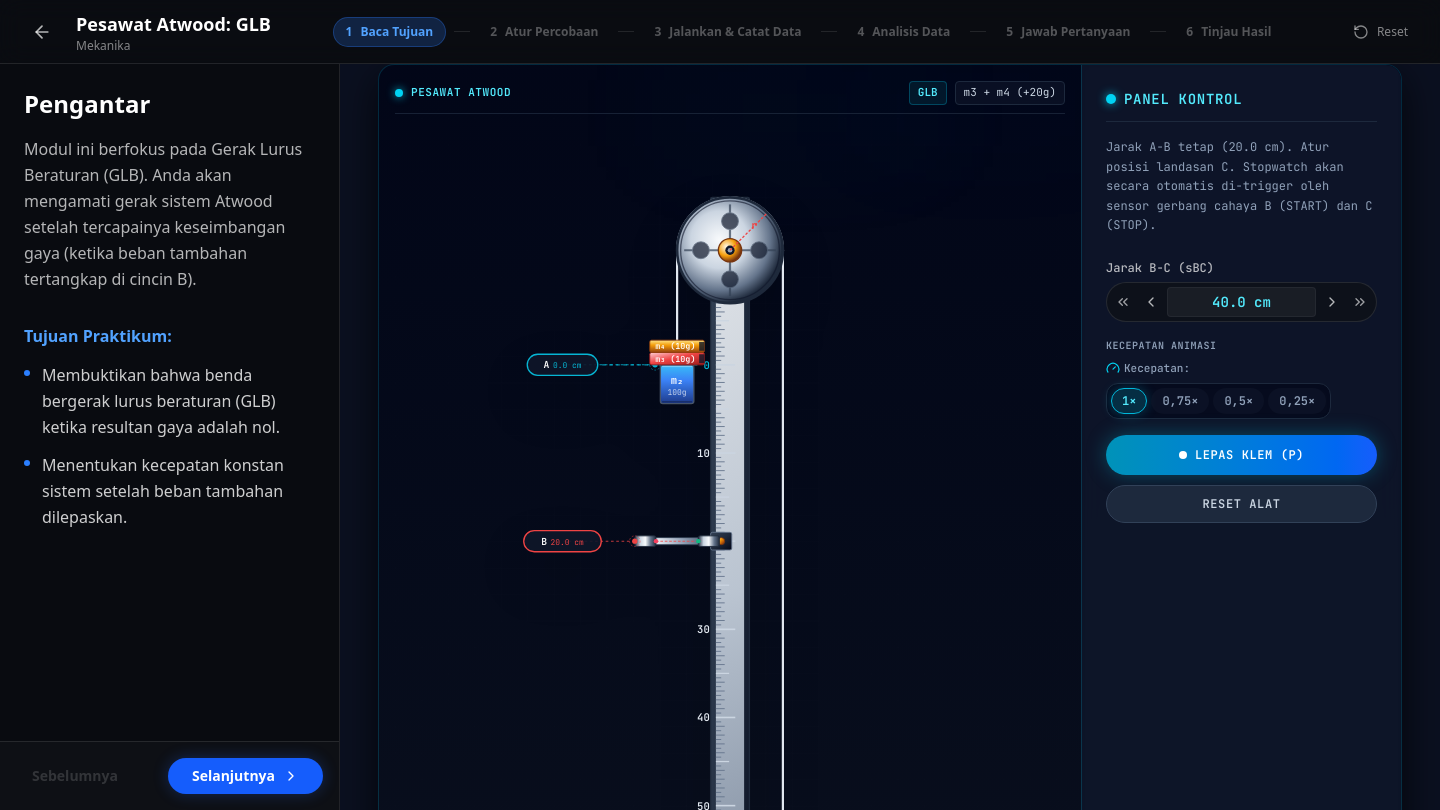
Test: E. BUG GATING & B. ALASAN TERKUNCI - Regression Tests › Atwood GLB: in SIMULATION step with 0 rows, shows blocked reason
The width and height of the screenshot is (1440, 810).
Click the button with test id "practicum-next-step": (245, 776) [168,758,323,794]
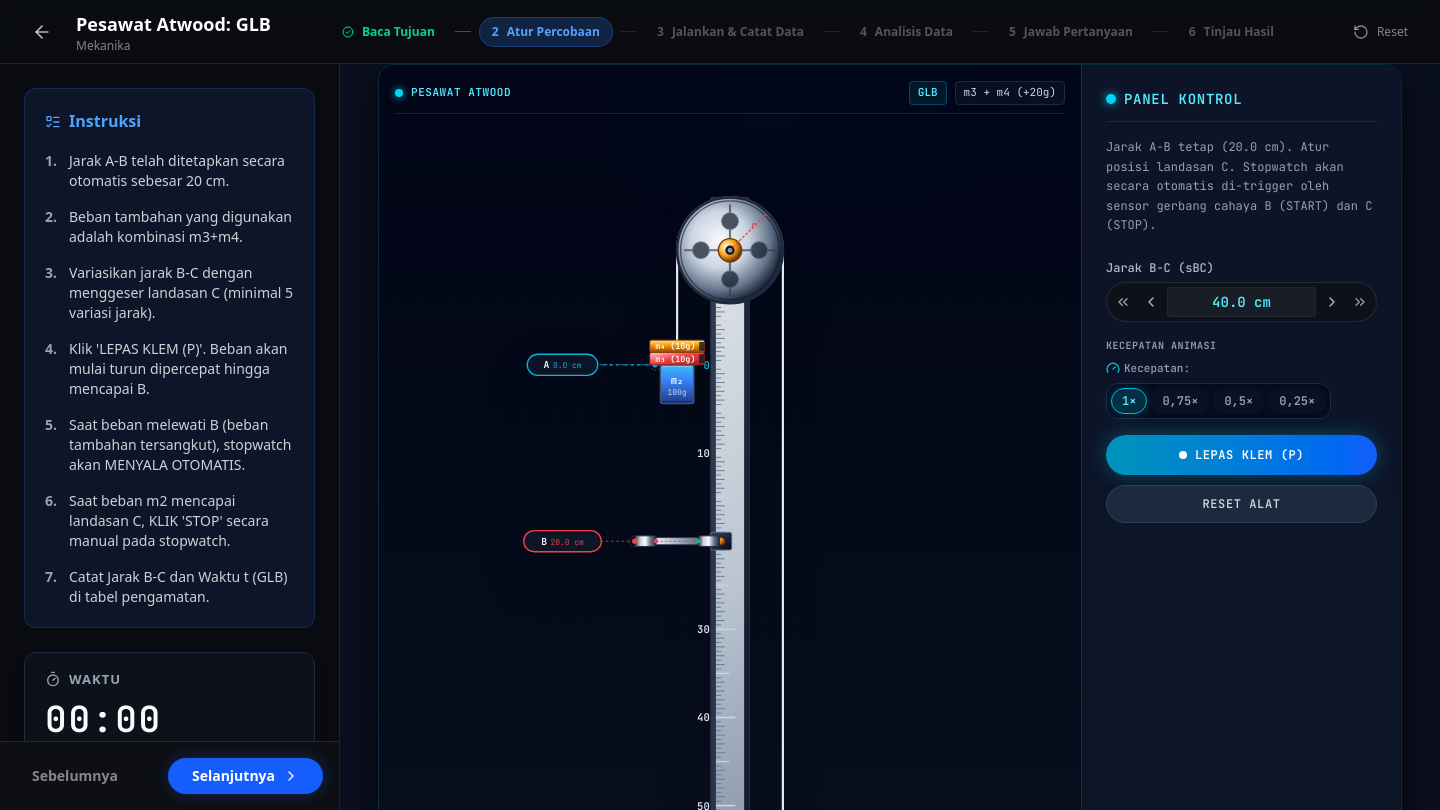
Click the button with test id "practicum-next-step": (245, 776) [168,758,323,794]
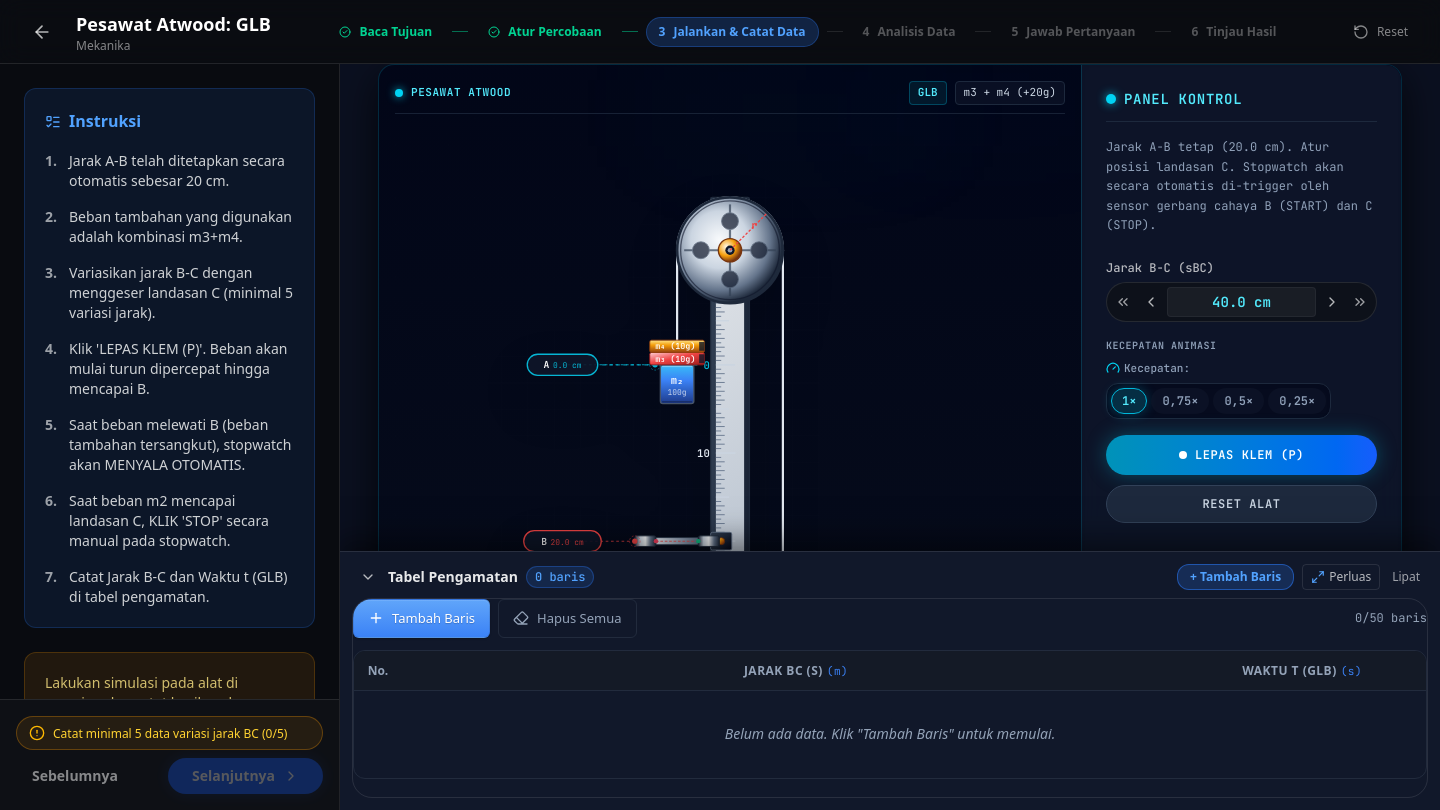
Expected: the button with test id "practicum-next-step" is disabled, [168,758,323,794]
Expected: the element with test id "next-blocked-reason" reads "Catat minimal 5 data variasi jarak BC (0/5)", [53,724,287,742]
